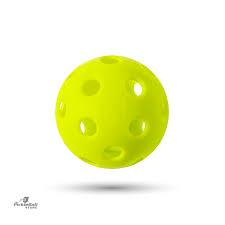ball: (50, 50, 173, 174)
